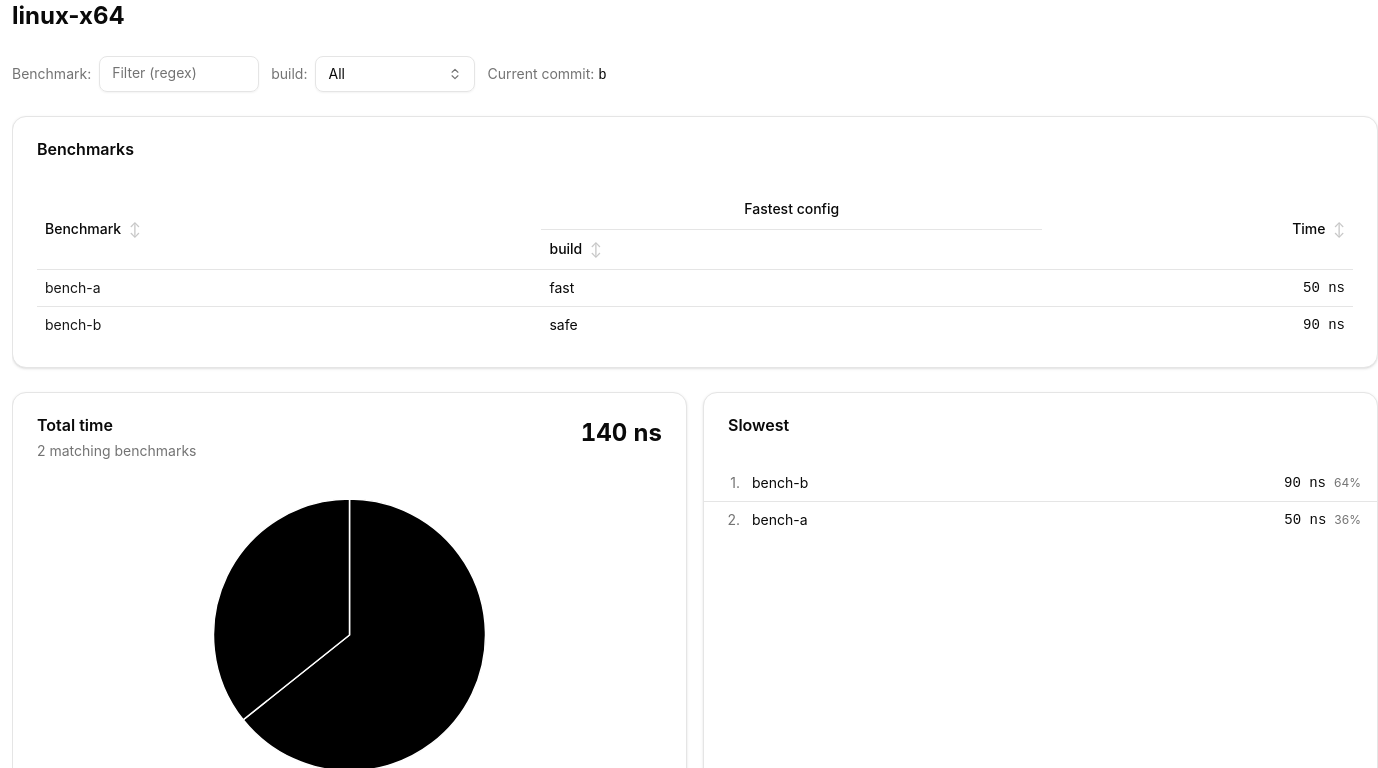
Test: Dashboard › filters benchmarks by name as a regex is typed
expect the text "2 matching benchmarks" is shown: met, box [37,442,196,458]
expect the link "bench-a" is shown: met, box [45,278,101,296]
In the field labelled "Benchmark:": (179, 74) [99,56,259,92], type "a$"
(page scrolled)
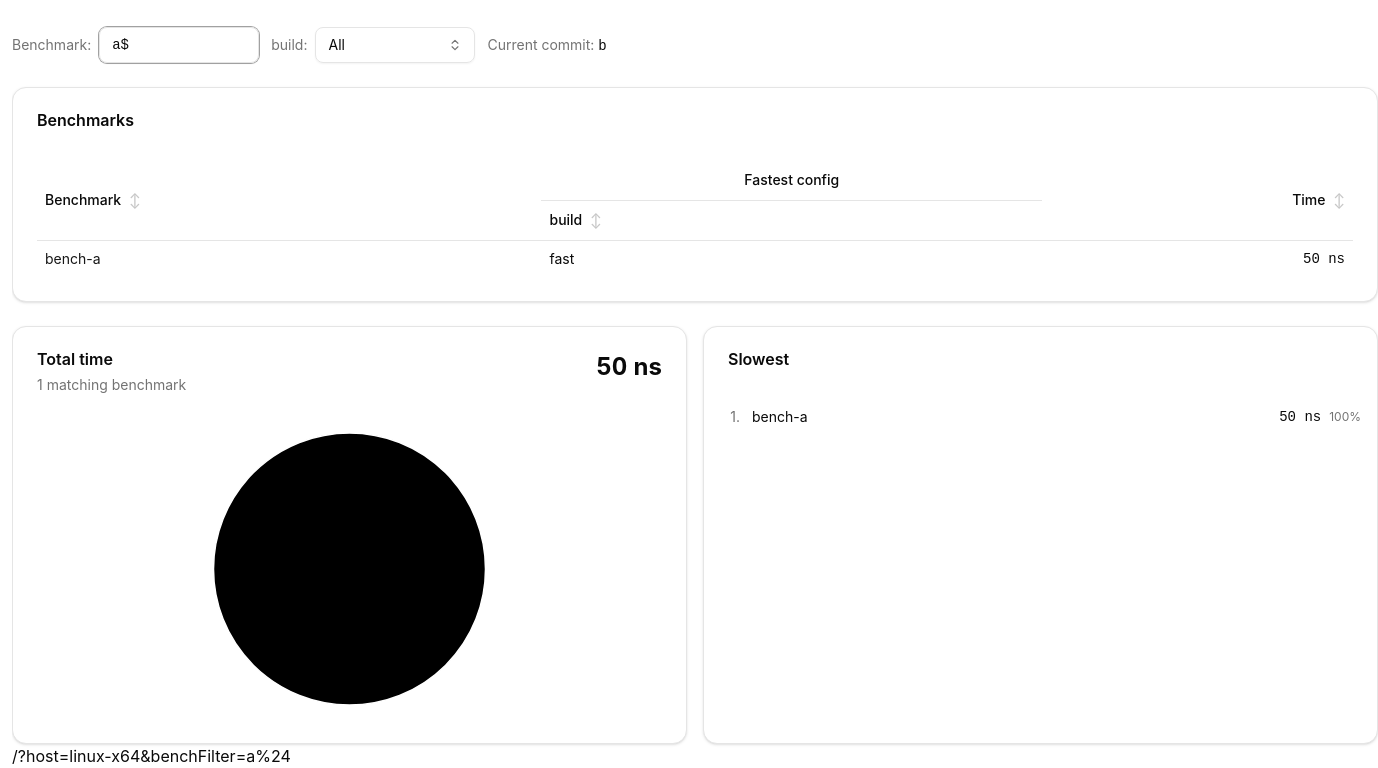
expect the link "bench-b" is gone: met
expect the text with test id "dashboard-total-time-value" reads "50 ns": met, box [596,352,662,380]
expect the text "1 matching benchmark" is shown: met, box [37,376,186,392]
